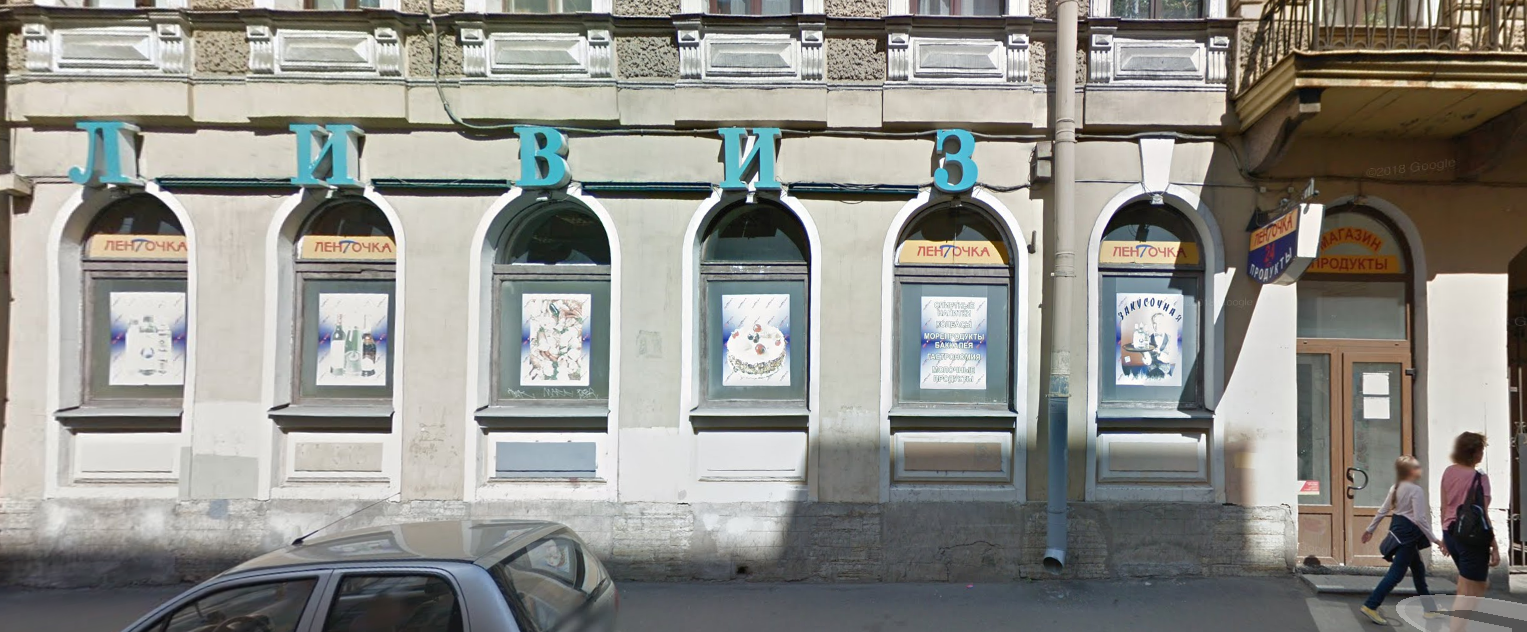cantilever: (1227, 182, 1327, 288)
door: (1291, 336, 1413, 561)
signboard: (54, 101, 1003, 224)
window: (71, 230, 199, 409), (889, 245, 1009, 422), (1101, 242, 1217, 415), (484, 257, 613, 412), (290, 235, 400, 414), (692, 258, 799, 415)
